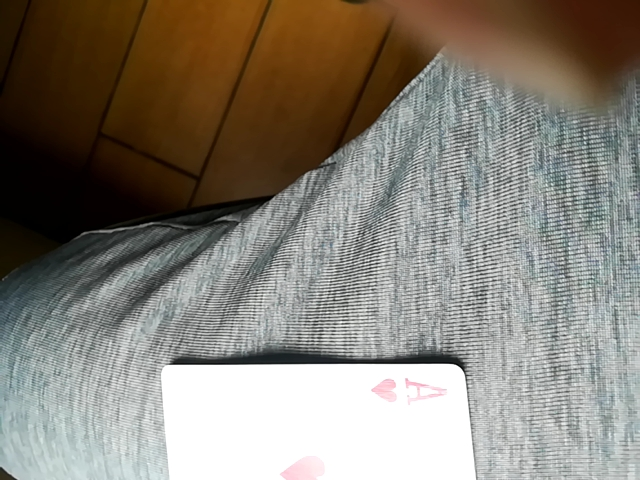hx a: (152, 360, 468, 479)
